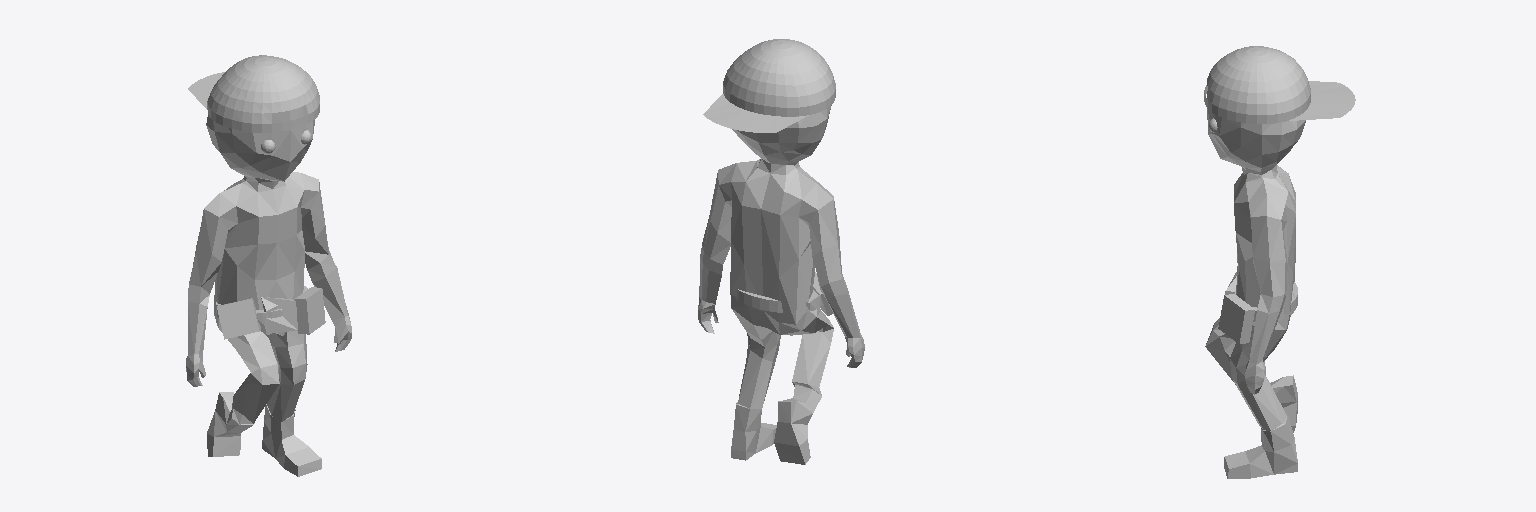
The model's file is Main_Character_Walk_2.obj.
3 views of the same model, side by side, from view 1: azimuth 30°, elevation 25°; view 2: azimuth 150°, elevation 25°; view 3: azimuth 270°, elevation 25° (orthographic).
Parts seen in each view (by area): view 1: Main_Character_Test.003_Main_Character_Test.004; view 2: Main_Character_Test.003_Main_Character_Test.004; view 3: Main_Character_Test.003_Main_Character_Test.004.
Boxes of the visible parts, x1,y1,x2,y2 form: Main_Character_Test.003_Main_Character_Test.004: [186, 55, 351, 476]; Main_Character_Test.003_Main_Character_Test.004: [698, 39, 864, 464]; Main_Character_Test.003_Main_Character_Test.004: [1204, 46, 1355, 478].
Bounding box in the file's own units: 1.63 × 3.89 × 1.31.